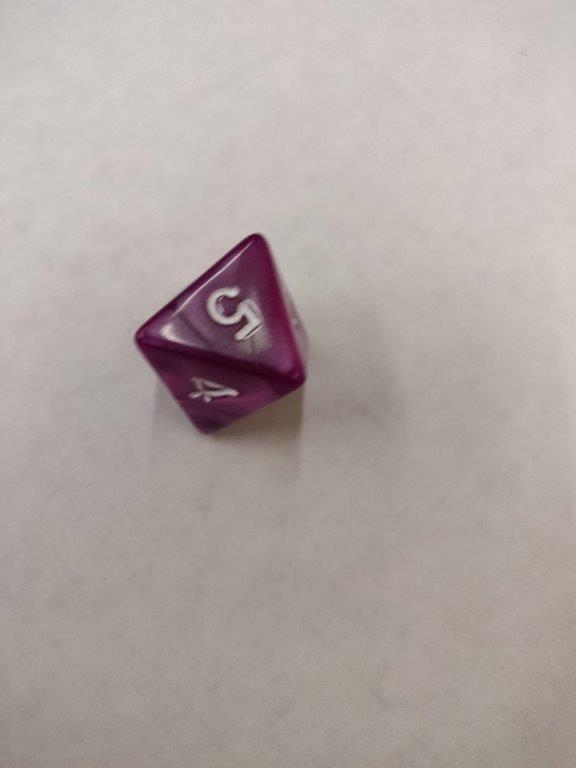d8-5: (136, 230, 308, 436)
